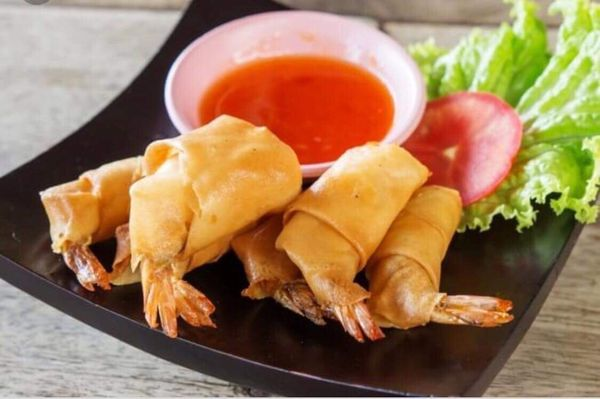sushi: (163, 10, 426, 178)
